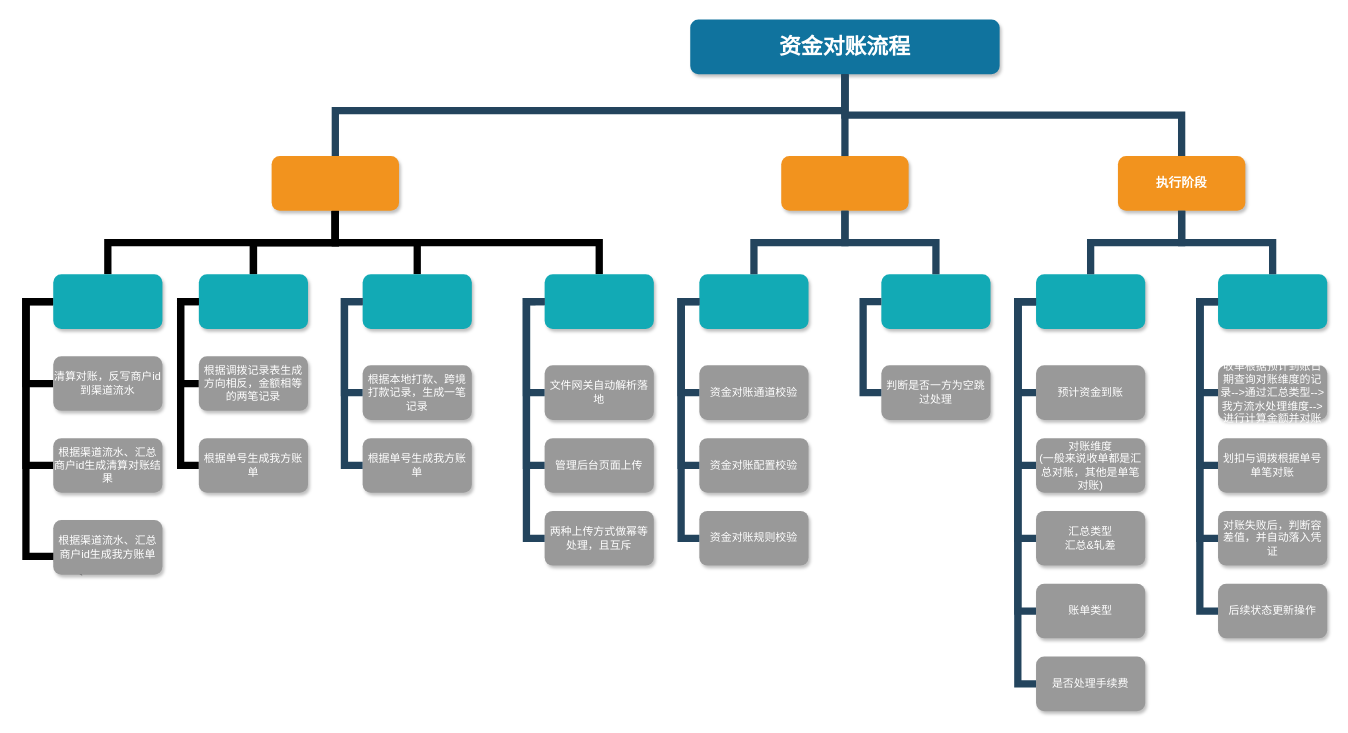
Some shapes in this 1348 by 733 pixel diagram are drawn without their labels. The centre of each missing label's shape, as x and y in pixels:
初始化阶段: pixel 336 184
基础校验: pixel 754 302
对账配置: pixel 1091 302
我方划扣账单: pixel 418 302
我方收单账单: pixel 108 302
我方调拨账单: pixel 254 302
执行对账任务: pixel 1273 302
数据校验: pixel 936 302
机构账单: pixel 600 302
校验阶段: pixel 845 184
